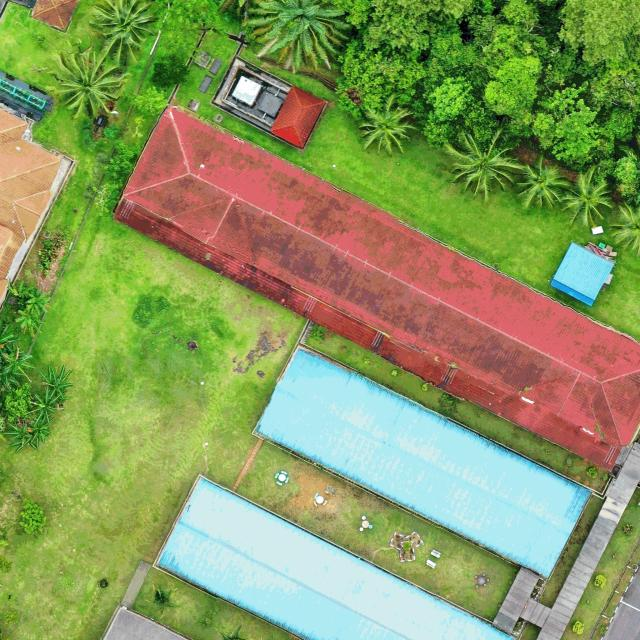Tree: (240, 0, 354, 74), (334, 40, 429, 121), (532, 86, 618, 173), (422, 61, 504, 150), (480, 26, 550, 128), (440, 127, 521, 199), (50, 49, 128, 121), (86, 0, 156, 67), (558, 168, 616, 230), (358, 96, 416, 156), (517, 153, 569, 210), (2, 414, 56, 455), (607, 200, 640, 252), (26, 387, 64, 427), (36, 367, 73, 402), (146, 583, 180, 619), (4, 384, 34, 424), (1, 345, 38, 373), (18, 499, 47, 534), (15, 309, 44, 338), (24, 289, 51, 317)
